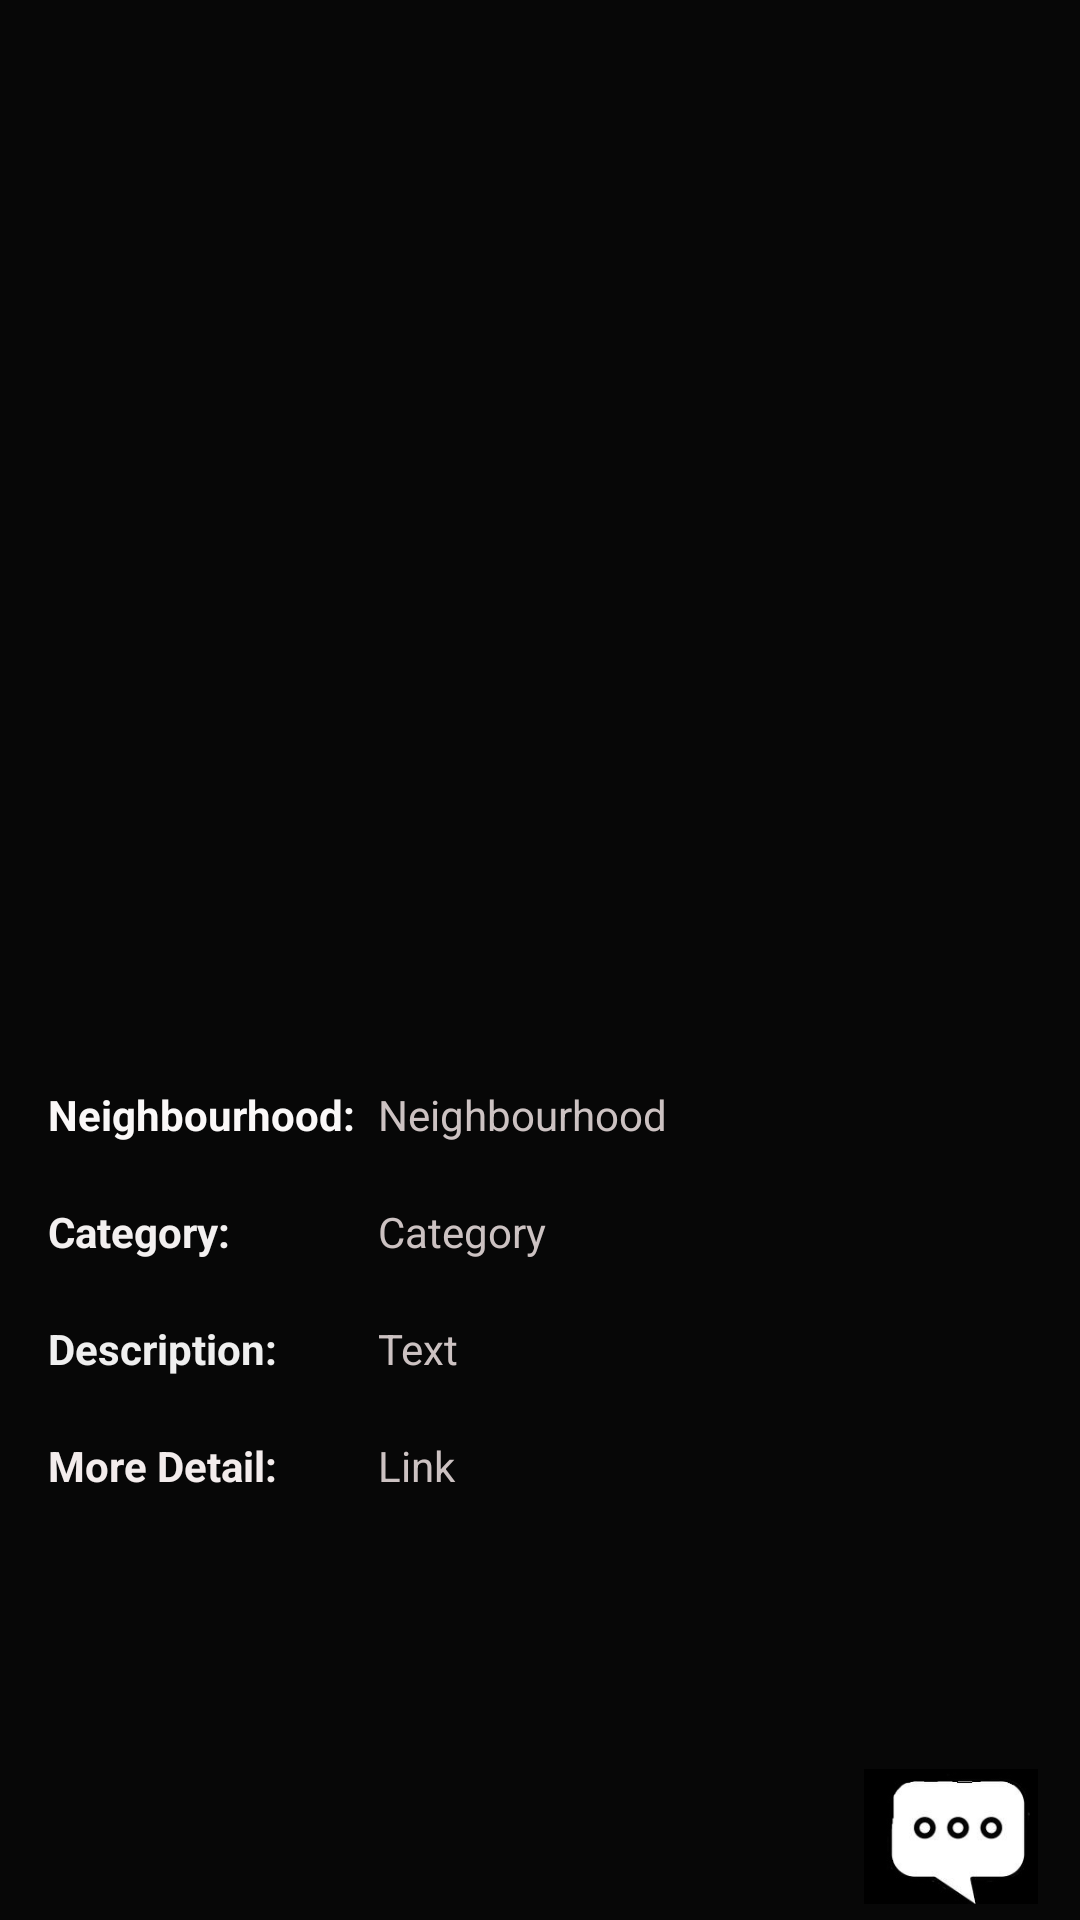

Screen size 1080px×1920px. Icon name, then its center in pixels as [x,y]:
comment: [960,1842]
